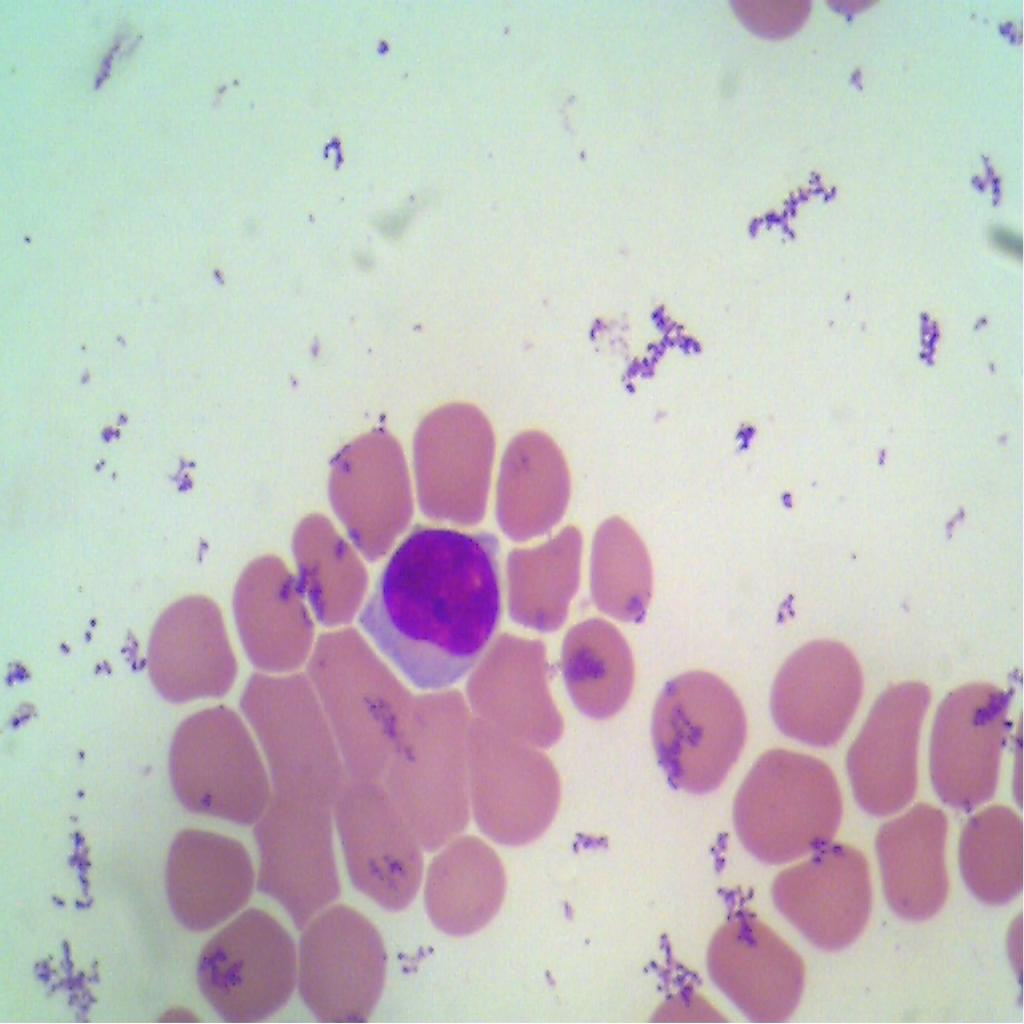Eritrosit: (235, 654, 346, 801), (304, 618, 410, 764), (470, 628, 578, 762), (730, 738, 844, 858), (381, 685, 475, 829), (694, 909, 810, 1023), (139, 585, 246, 708), (761, 635, 870, 751), (841, 672, 929, 815), (150, 814, 258, 928), (496, 517, 594, 642), (190, 906, 298, 1018), (161, 708, 269, 818), (468, 724, 566, 845), (651, 664, 742, 794), (221, 558, 318, 678), (338, 791, 424, 924), (928, 672, 1006, 817), (326, 425, 416, 548), (406, 402, 496, 521), (580, 508, 662, 634), (298, 908, 386, 1023), (493, 420, 573, 542), (871, 805, 953, 924), (783, 845, 873, 951), (558, 616, 640, 726), (289, 511, 370, 621), (422, 844, 508, 944), (958, 788, 1023, 912)
Limfosit: (366, 518, 504, 692)
